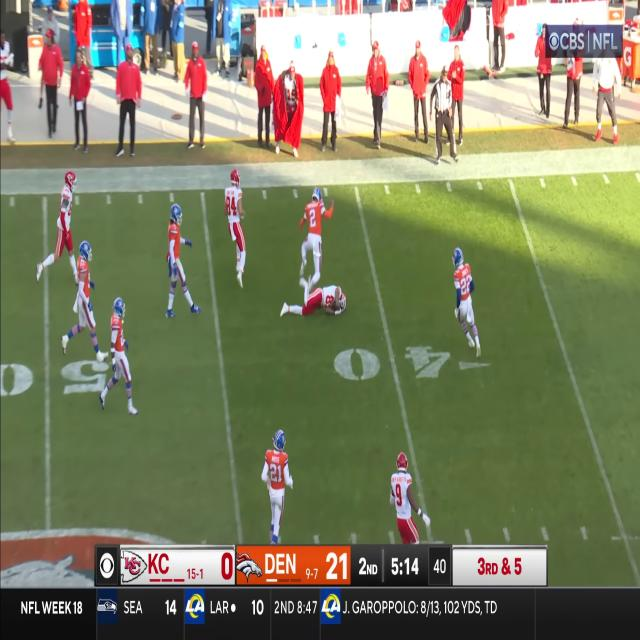Player: (100, 297, 134, 415), (262, 427, 293, 546), (164, 201, 195, 316), (50, 169, 80, 285), (452, 249, 483, 355), (388, 452, 423, 545), (71, 242, 97, 352), (224, 167, 247, 291), (299, 186, 327, 285), (282, 286, 346, 320)
Referee: (431, 67, 458, 162)
